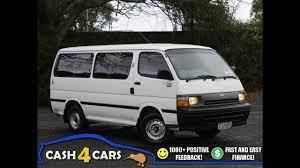van: (51, 44, 251, 142)
